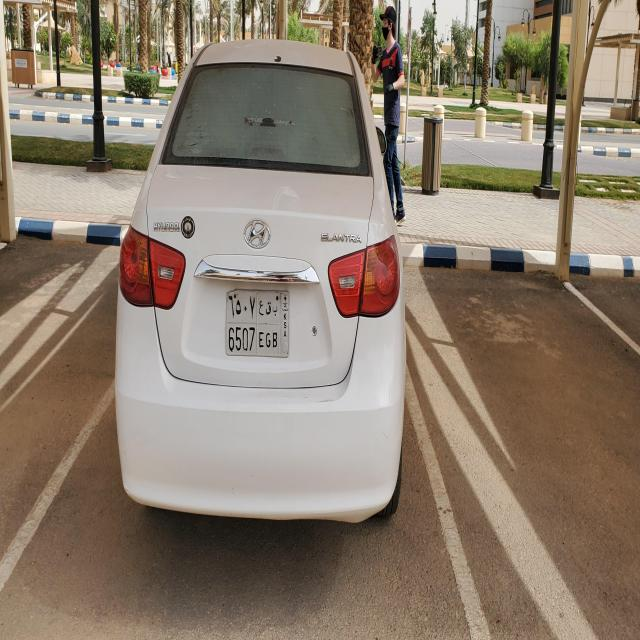license_plate: (225, 285, 290, 362)
